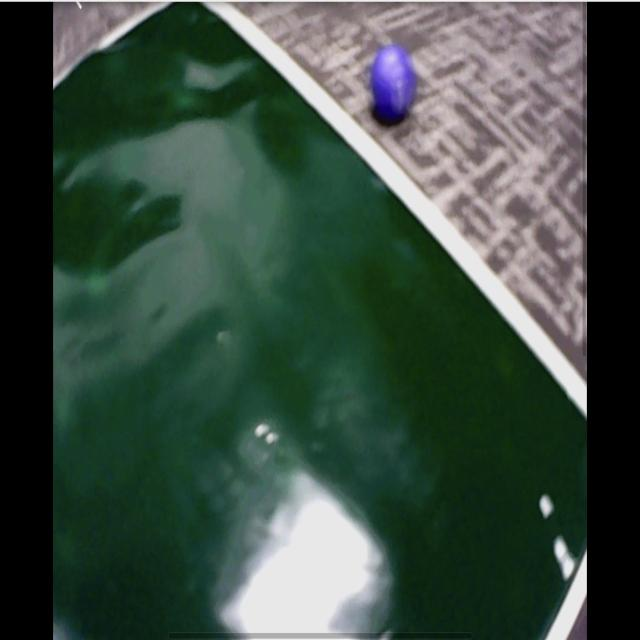ball: (372, 49, 413, 119)
